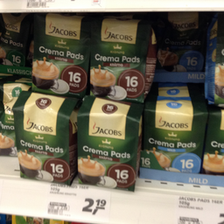coffee: (76, 95, 142, 192), (13, 90, 78, 186), (89, 20, 156, 101), (140, 97, 208, 173), (32, 13, 90, 94)
